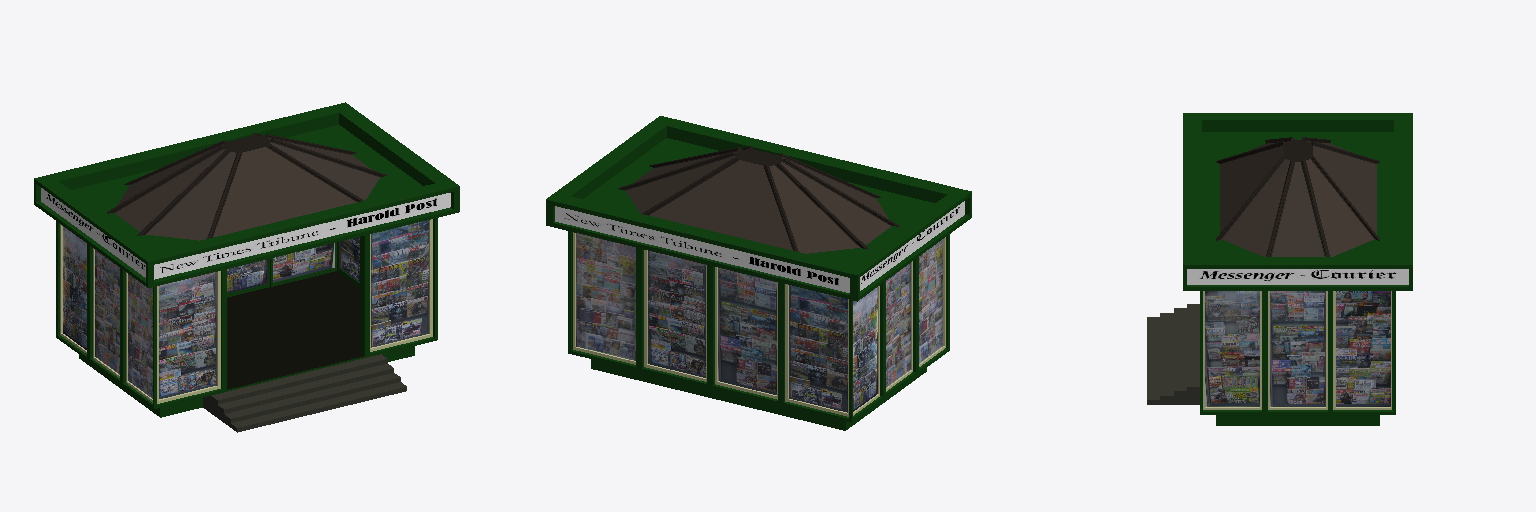
The picture shows the model from 3 angles: view 1: azimuth 30°, elevation 25°; view 2: azimuth 150°, elevation 25°; view 3: azimuth 270°, elevation 25°; orthographic projection.
Parts seen in each view (by area): view 1: newsstand.obj; view 2: newsstand.obj; view 3: newsstand.obj.
Boxes of the visible parts, <box> form: newsstand.obj: <box>34,102,459,432</box>; newsstand.obj: <box>546,116,971,430</box>; newsstand.obj: <box>1147,113,1412,425</box>.
Bounding box in the file's own units: 55 × 36.19 × 40.51.
Materials: 20 (10 with a texture image).